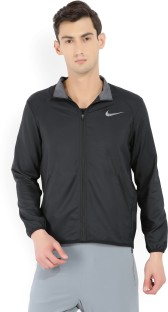Jackets: (10, 74, 168, 253)
